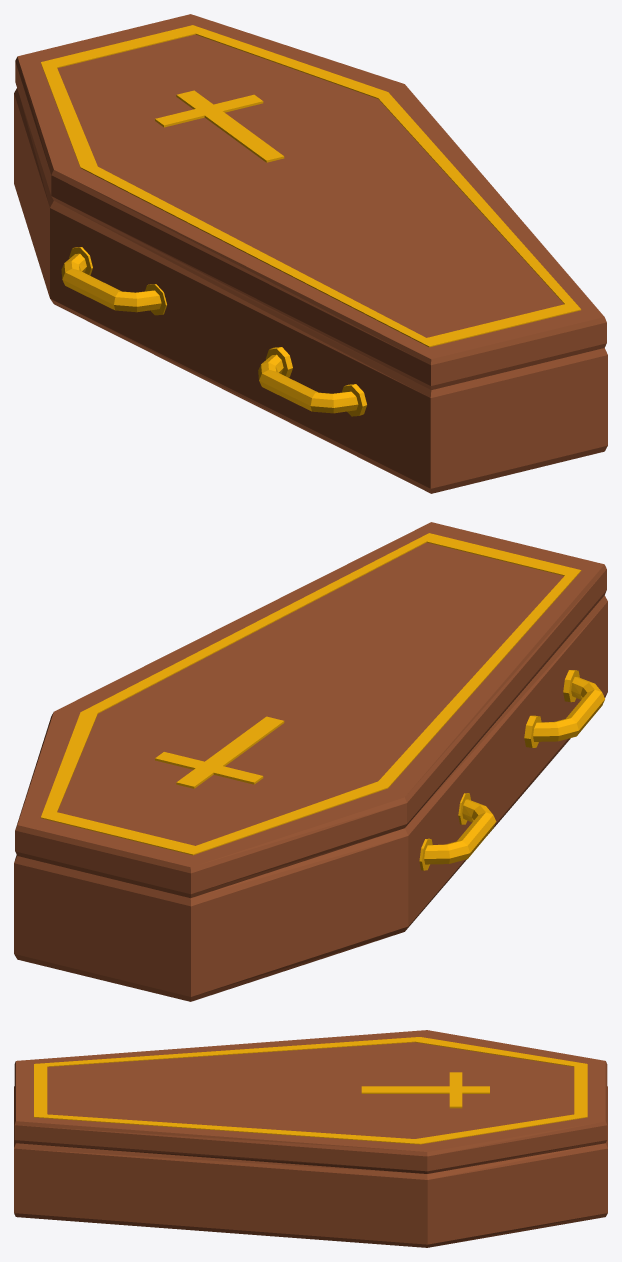
Rendered from egmks2_joYD.glb.
3 renders of one model, top to bottom at view 1: azimuth 30°, elevation 25°; view 2: azimuth 150°, elevation 25°; view 3: azimuth 270°, elevation 25°, orthographic. The views are drawn at different scales.
Visible parts, largest first — view 1: Node; view 2: Node; view 3: Node.
Boxes of the visible parts, bbox=[...] form: Node: bbox=[14, 14, 607, 493]; Node: bbox=[14, 522, 607, 1001]; Node: bbox=[14, 1030, 607, 1247].
Bounding box in the file's own units: 2.93 × 0.9996 × 5.53.
